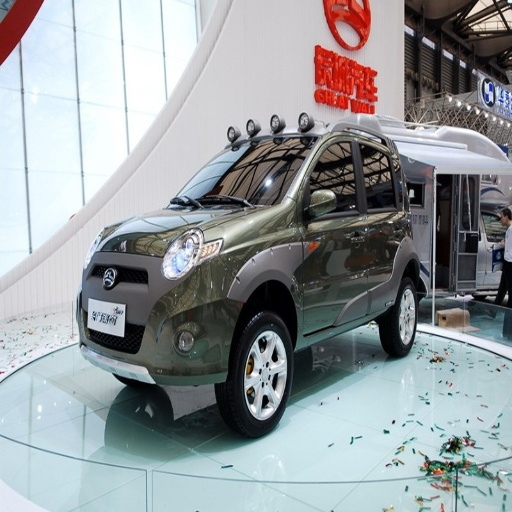front_bumper: (79, 249, 239, 387)
front_glass: (171, 148, 300, 205)
front_left_door: (302, 132, 369, 335)
